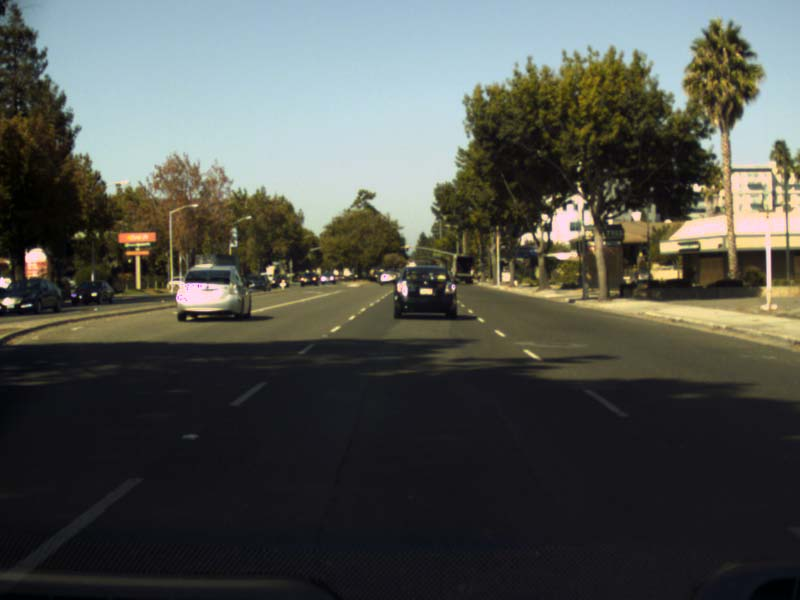Red: (405, 244, 407, 250)
